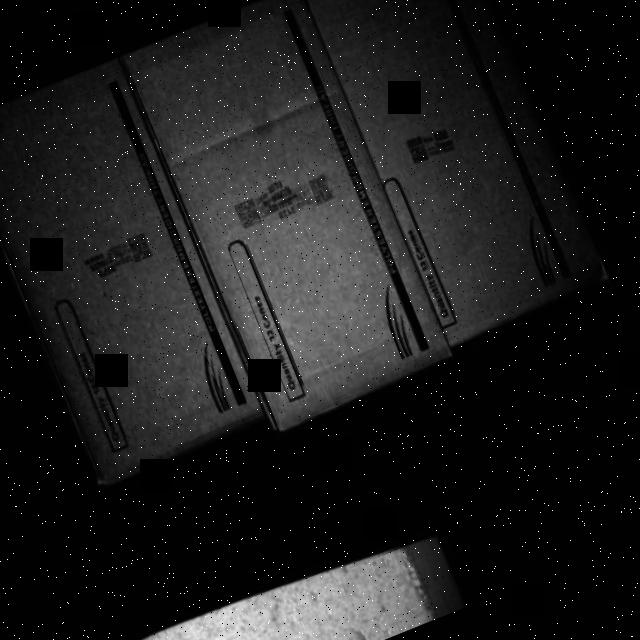box: (125, 0, 457, 431), (0, 70, 268, 485), (304, 0, 610, 341)
